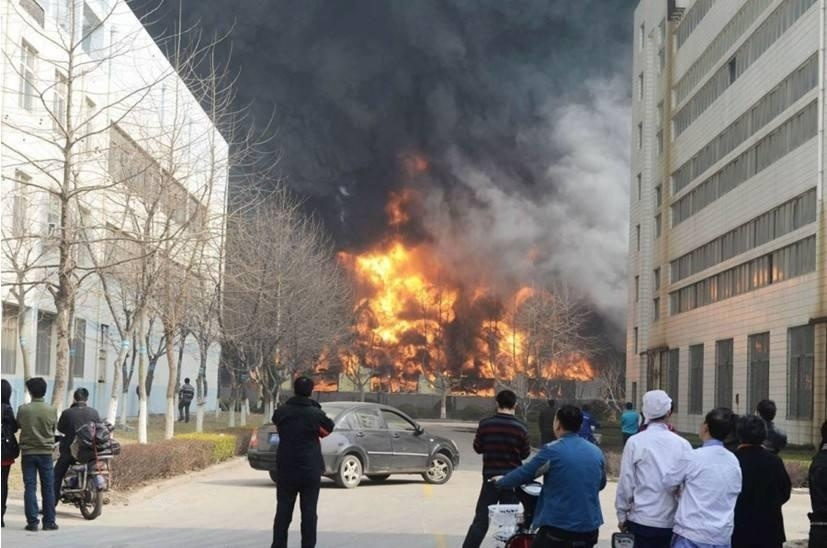fire: (323, 224, 603, 396)
